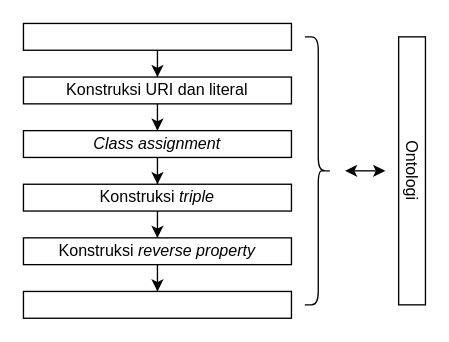
The diagram is 449 pixels wide and 342 high, and some of its shapes have lost their labels. The box of each missing label's shape, as (x1, y1, x2, y2) in pixels:
Data: (22, 22, 291, 50)
KG: (22, 290, 291, 318)
